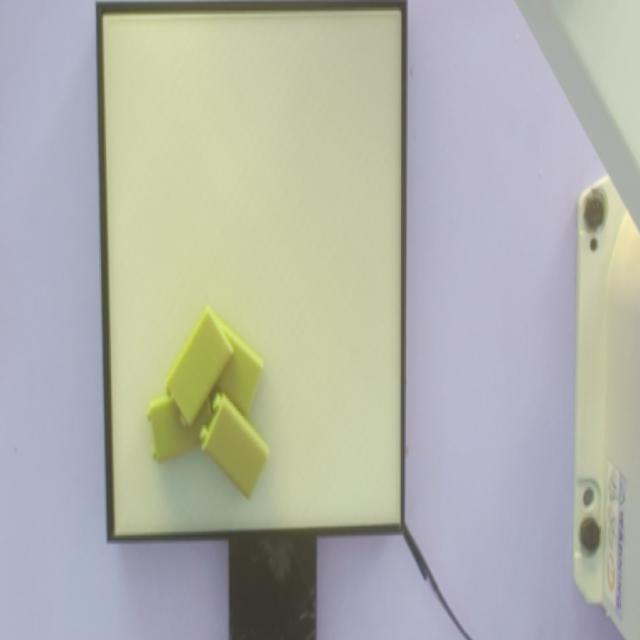bateria: (164, 308, 234, 427), (199, 394, 270, 501)
mesa: (97, 0, 406, 545)
